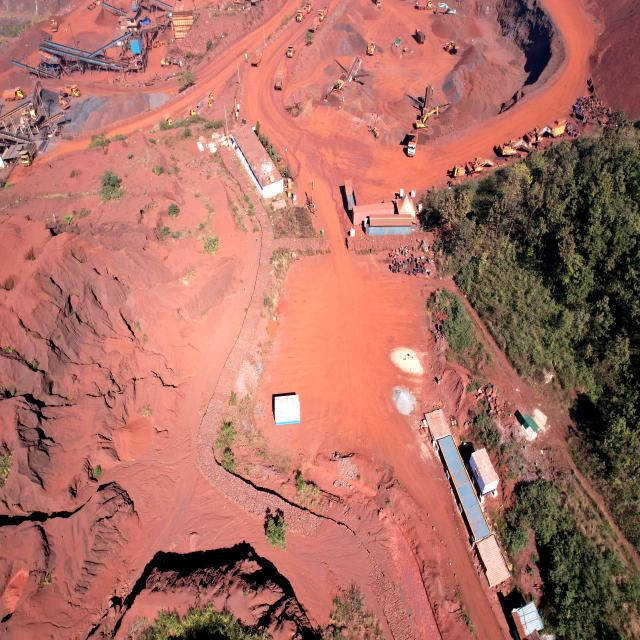Dumper truck: (325, 78, 345, 97), (342, 180, 355, 208), (196, 94, 214, 110), (3, 87, 25, 100), (154, 115, 172, 130), (156, 116, 173, 130), (179, 107, 196, 120), (182, 111, 198, 123), (274, 71, 284, 89), (66, 85, 80, 96), (253, 48, 262, 65), (409, 130, 417, 149), (306, 28, 316, 42), (318, 8, 328, 22), (417, 0, 431, 10), (414, 28, 424, 42), (295, 10, 305, 22), (406, 144, 415, 156), (285, 47, 295, 57), (305, 0, 313, 12), (375, 0, 381, 8)
Excavator: (416, 104, 440, 129), (498, 138, 518, 158), (435, 2, 456, 15), (161, 56, 180, 68)
